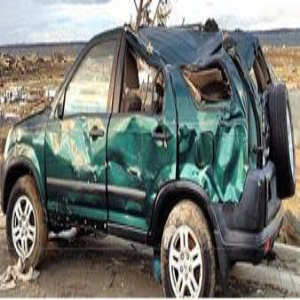door: (48, 125, 152, 214)
